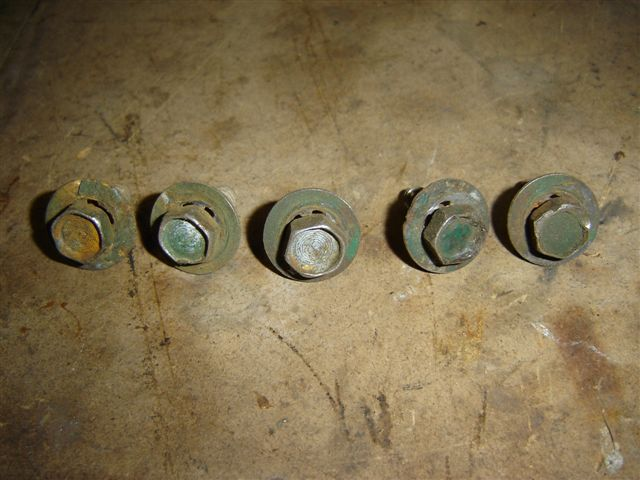bolt_a: (277, 213, 347, 281), (47, 200, 112, 267), (420, 203, 488, 267), (529, 195, 591, 260), (155, 206, 220, 267)
